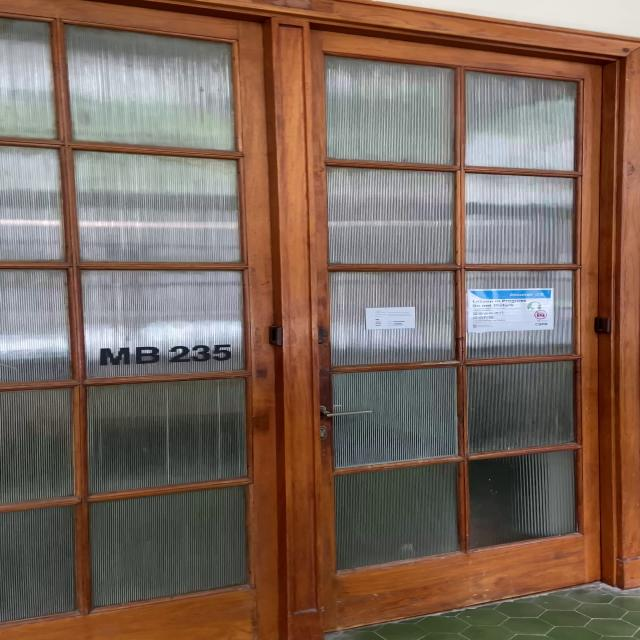room235Window: (93, 345, 239, 364)
